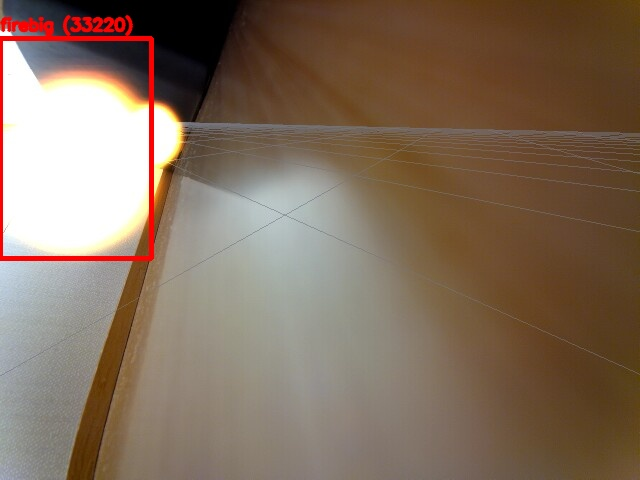firebig: (0, 38, 151, 258)
